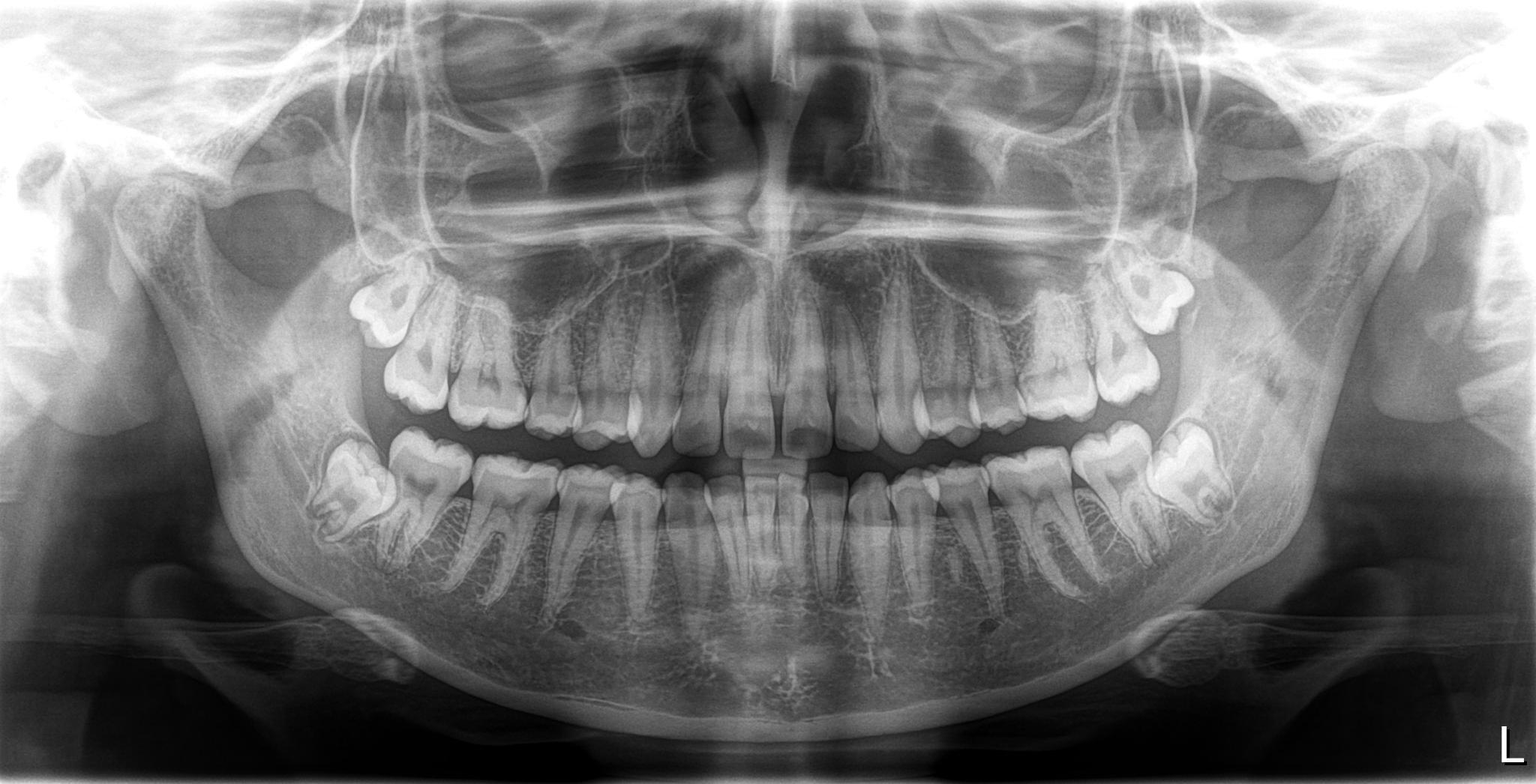Impacted Third Molar: (1166, 416, 1244, 534), (311, 444, 392, 532), (352, 270, 419, 360), (1121, 260, 1202, 333)
